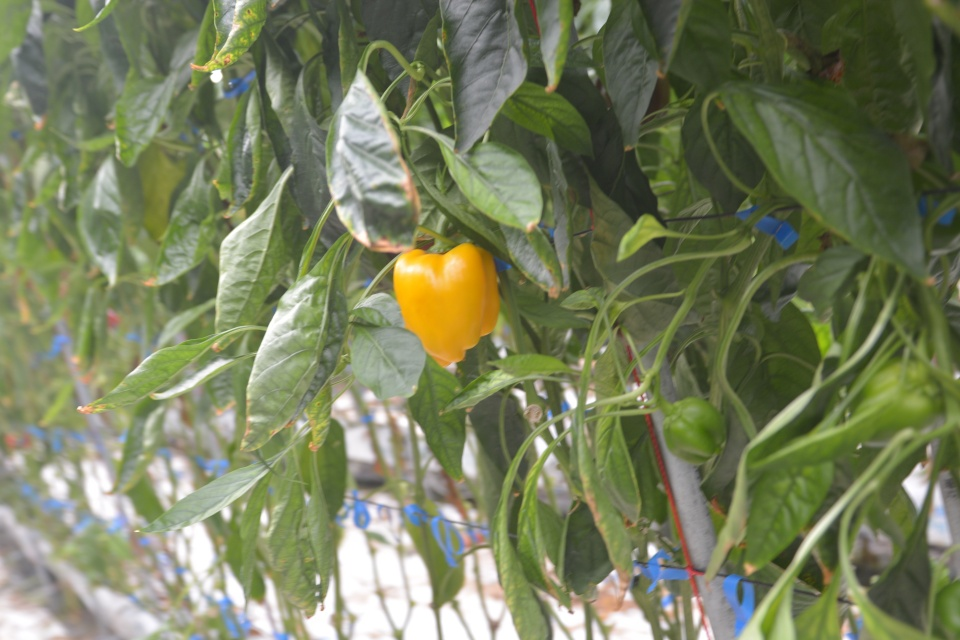fruit: (391, 241, 501, 368)
immature: (854, 358, 946, 439), (660, 394, 729, 466)
pedicle: (424, 233, 473, 253)
